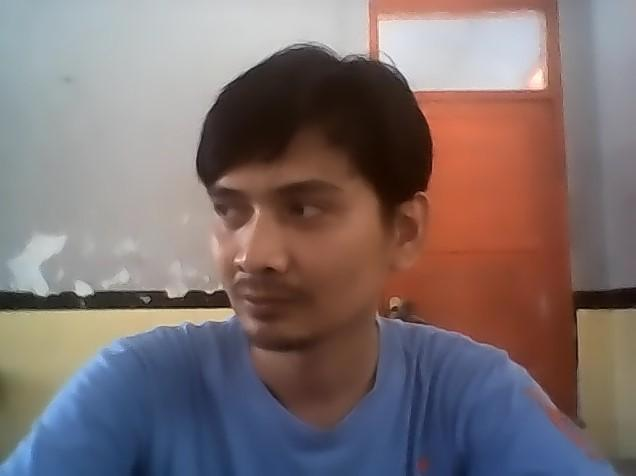cheating: (190, 29, 449, 378)
